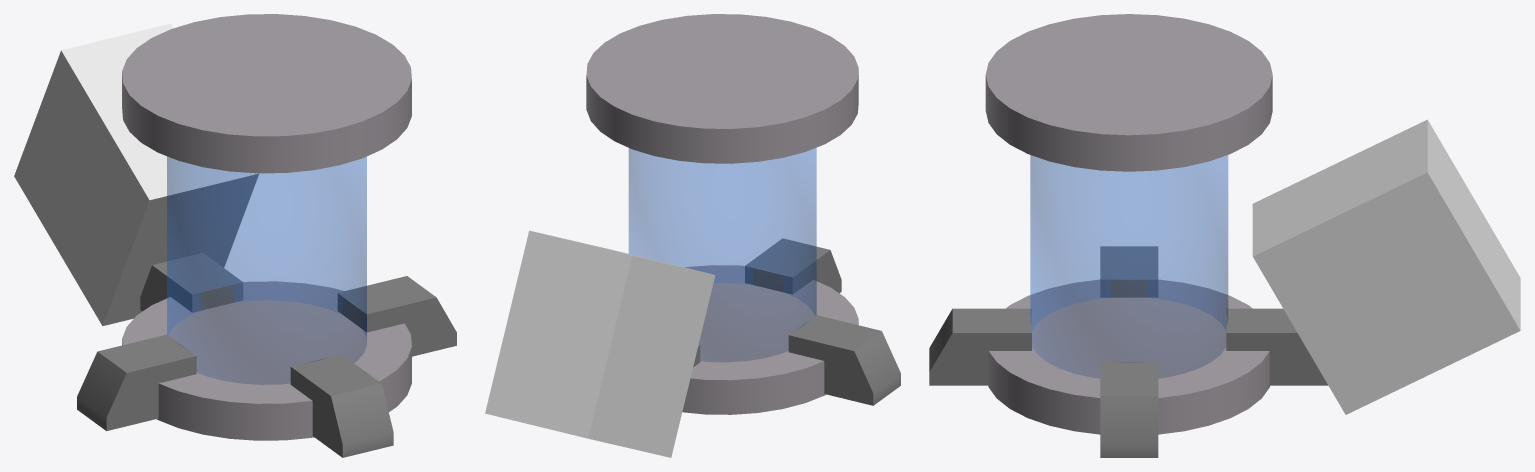
Rendered from tank1.glb.
3 renders of one model, left to right at view 1: azimuth 30°, elevation 25°; view 2: azimuth 150°, elevation 25°; view 3: azimuth 270°, elevation 25°, orthographic. The views are drawn at different scales.
Parts seen in each view (by area): view 1: Cylinder, Cylinder.002, Cube.001, Cylinder.001, Cube.002, Cube.003, Cube.004, Cube; view 2: Cube.001, Cylinder.002, Cylinder, Cylinder.001, Cube.002, Cube.003; view 3: Cube.001, Cylinder, Cylinder.002, Cylinder.001, Cube.003, Cube.004, Cube, Cube.002.
Boxes of the visible parts, left/top/right/bottom form: Cylinder: left=167, top=156, right=366, bottom=384; Cylinder.002: left=122, top=14, right=411, bottom=173; Cube.001: left=14, top=23, right=258, bottom=326; Cylinder.001: left=122, top=281, right=411, bottom=440; Cube.002: left=77, top=334, right=196, bottom=431; Cube.003: left=290, top=354, right=393, bottom=457; Cube.004: left=337, top=276, right=456, bottom=356; Cube: left=140, top=253, right=243, bottom=312; Cube.001: left=485, top=230, right=715, bottom=457; Cylinder.002: left=586, top=14, right=858, bottom=163; Cylinder: left=629, top=148, right=816, bottom=361; Cylinder.001: left=682, top=265, right=858, bottom=414; Cube.002: left=788, top=315, right=900, bottom=405; Cube.003: left=745, top=238, right=841, bottom=294; Cube.001: left=1252, top=119, right=1520, bottom=414; Cylinder: left=1030, top=155, right=1227, bottom=377; Cylinder.002: left=985, top=14, right=1272, bottom=171; Cylinder.001: left=988, top=279, right=1269, bottom=434; Cube.003: left=929, top=308, right=1031, bottom=385; Cube.004: left=1100, top=362, right=1158, bottom=457; Cube: left=1226, top=308, right=1327, bottom=385; Cube.002: left=1100, top=246, right=1158, bottom=297.
Size of the model in its own units: 4.04 by 3.5 by 5.97.
